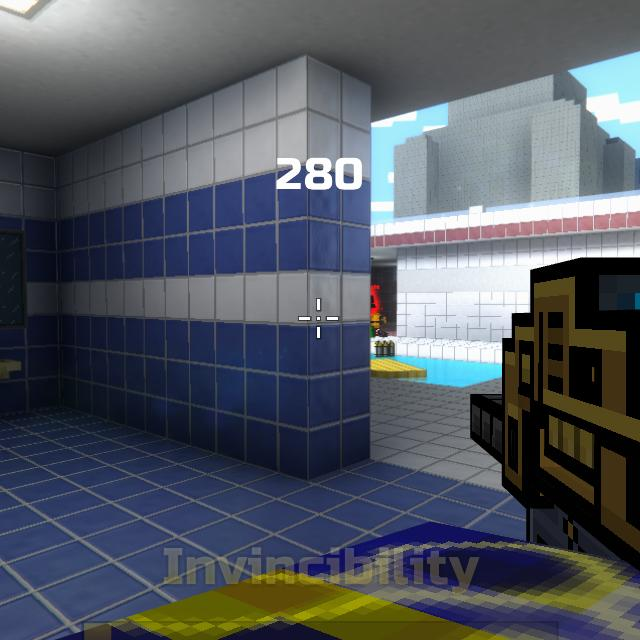Enemy: (369, 292, 375, 317)
